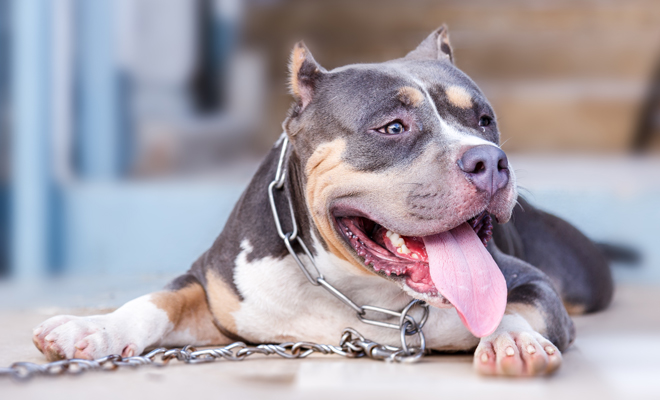Perro Pitbull: (236, 26, 561, 399)
